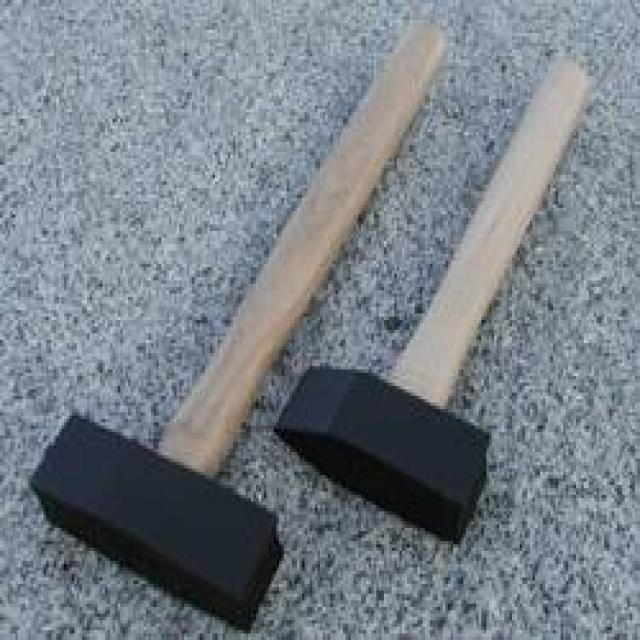hammer: (286, 44, 606, 566), (28, 232, 306, 621)
